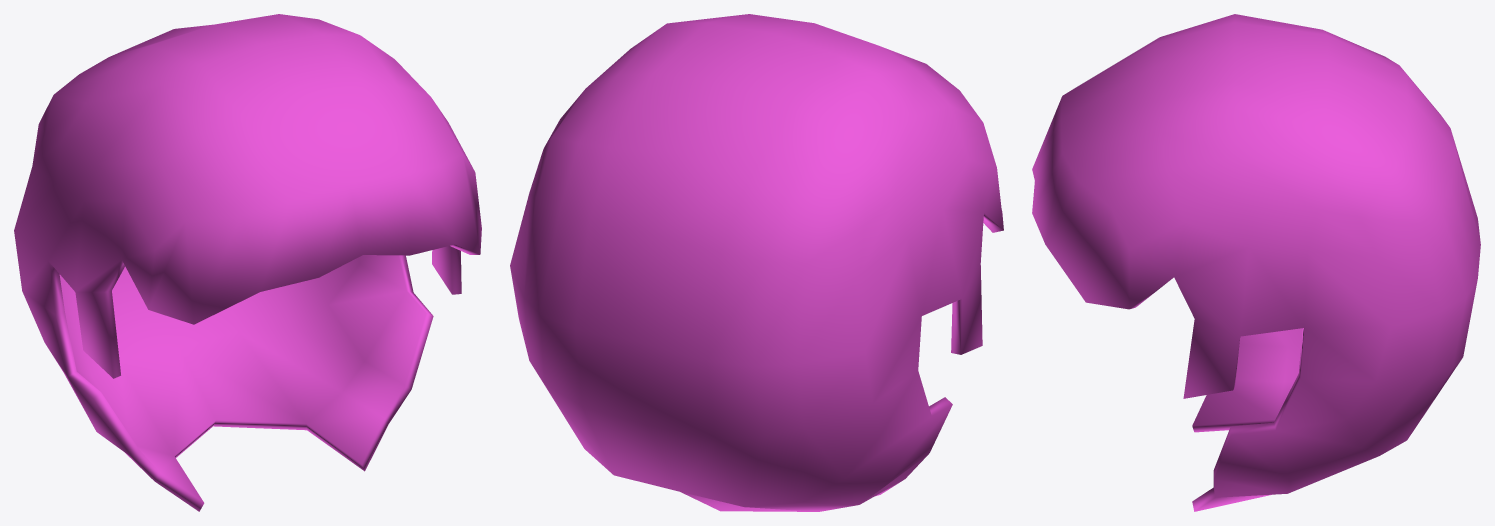
Rendered from character hair 05.fbx.
3 renders of one model, left to right at view 1: azimuth 30°, elevation 25°; view 2: azimuth 150°, elevation 25°; view 3: azimuth 270°, elevation 25°, orthographic. The views are drawn at different scales.
Parts seen in each view (by area): view 1: hair05; view 2: hair05; view 3: hair05.
Boxes of the visible parts, bbox=[...] form: hair05: bbox=[14, 14, 481, 511]; hair05: bbox=[510, 14, 1003, 511]; hair05: bbox=[1032, 14, 1480, 511].
Size of the model in its own units: 0.3842 by 0.4322 by 0.4135.
